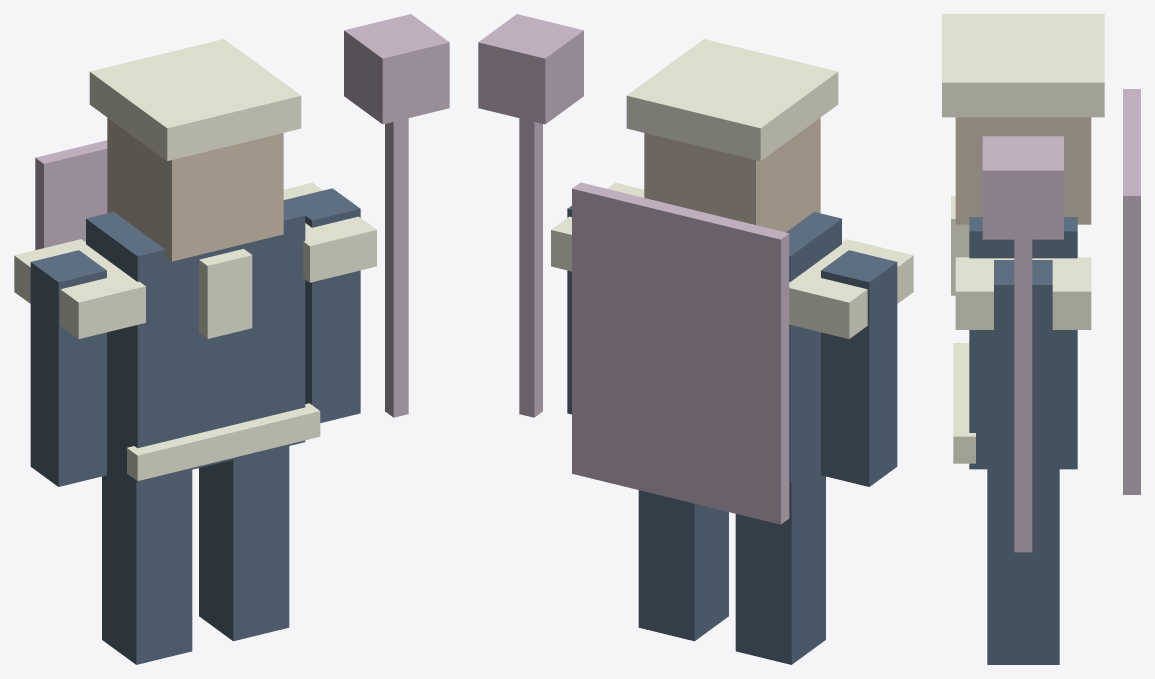
The model's file is 04_kael_cragwarden_oracle_at_surface.glb.
The picture shows the model from 3 angles, left to right: view 1: azimuth 30°, elevation 25°; view 2: azimuth 150°, elevation 25°; view 3: azimuth 270°, elevation 25°; orthographic projection. The views are drawn at different scales.
Visible parts, largest first — view 1: Kael Cragwarden, Oracle at Surface; view 2: Kael Cragwarden, Oracle at Surface; view 3: Kael Cragwarden, Oracle at Surface.
Boxes of the visible parts, <box> form: Kael Cragwarden, Oracle at Surface: <box>14,14,449,664</box>; Kael Cragwarden, Oracle at Surface: <box>478,14,913,664</box>; Kael Cragwarden, Oracle at Surface: <box>942,14,1140,664</box>.
Size of the model in its own units: 1.11 by 1.51 by 0.472.
